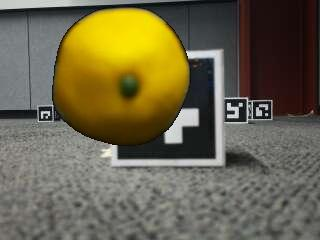lemon: (52, 10, 188, 144)
